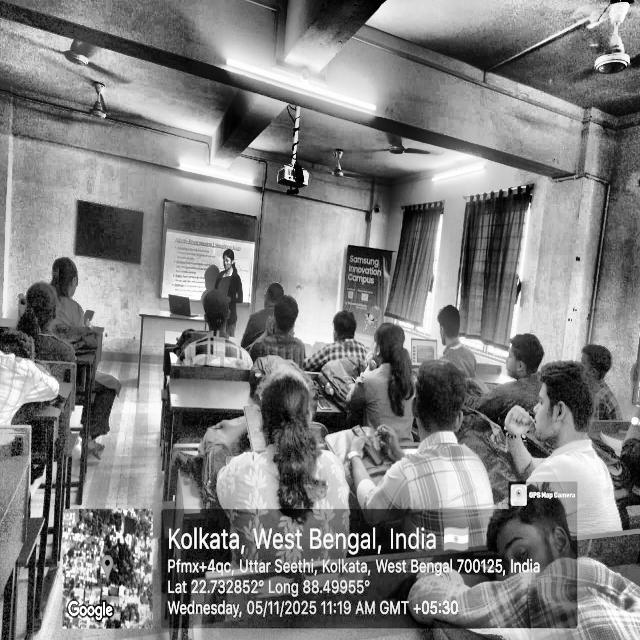Focus: (247, 339, 377, 531), (193, 276, 360, 378), (268, 277, 397, 398), (524, 371, 602, 512), (436, 297, 499, 455), (479, 309, 546, 422), (27, 275, 80, 385), (215, 240, 262, 301)
Not Focus: (380, 346, 490, 515), (39, 248, 102, 326)
